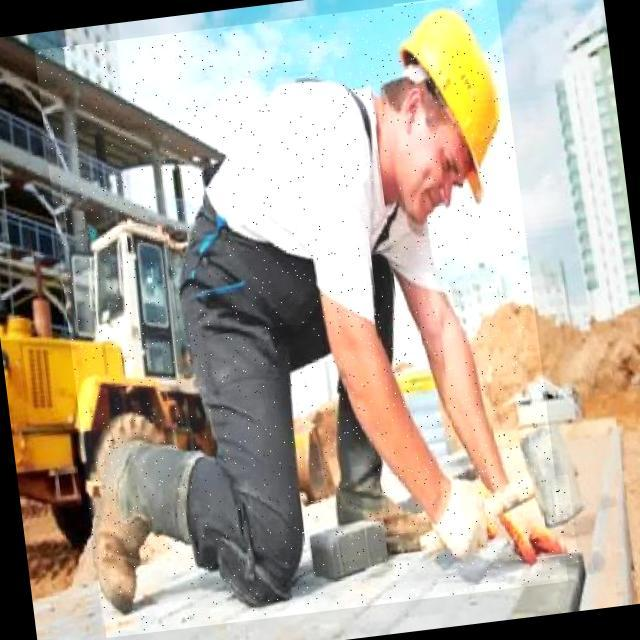Gloves: (430, 455, 512, 577), (490, 474, 579, 572)
Helmet: (393, 0, 520, 222)
Human: (34, 0, 569, 637)
Safety Boot: (80, 433, 180, 625), (327, 475, 440, 563)
